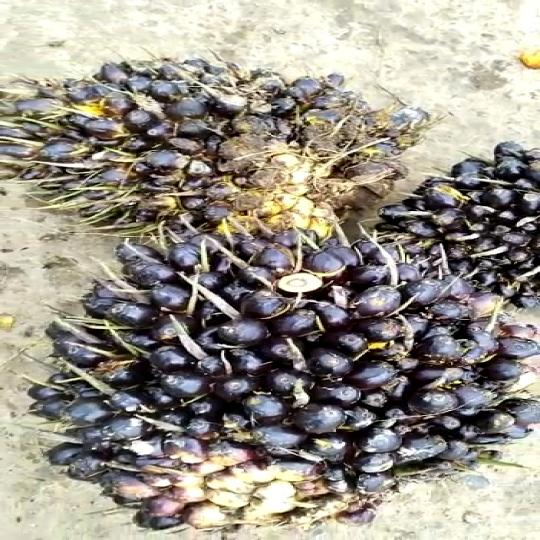mentah: (11, 236, 538, 540), (0, 38, 412, 258)
